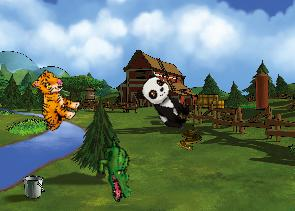crocodile: (85, 135, 147, 204)
panda: (132, 70, 197, 134)
tiger: (17, 66, 87, 135)
